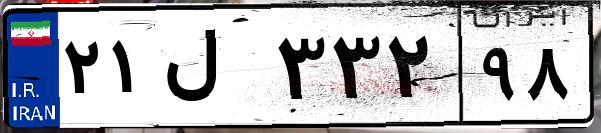1: (110, 28, 158, 98)
2: (385, 28, 445, 110), (57, 26, 110, 100)
3: (270, 28, 330, 110), (330, 28, 385, 110)
8: (525, 38, 570, 115)
9: (475, 38, 525, 113)
ل: (158, 20, 270, 120)
